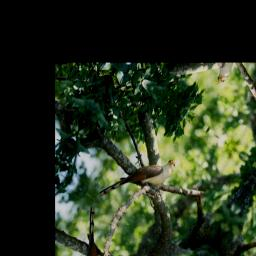Cuckoo: (96, 128, 180, 228)
